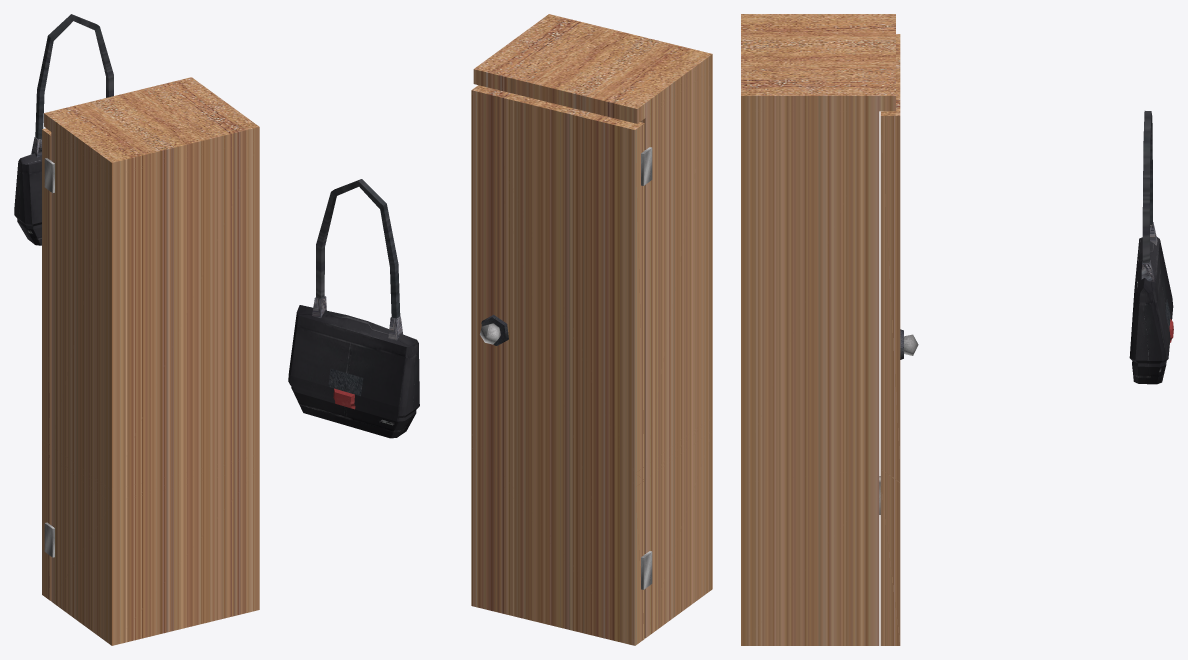
Rendered from bag.FBX.
3 views of the same model, side by side, from view 1: azimuth 30°, elevation 25°; view 2: azimuth 150°, elevation 25°; view 3: azimuth 270°, elevation 25° (orthographic). The views are drawn at different scales.
Parts seen in each view (by area): view 1: Box002, Object001, Box005, Box007; view 2: Object001, Box002, Box005, Box007, Object004; view 3: Box002, Object001, Box005, Box007.
Boxes of the visible parts, left/top/right/bottom form: Box002: left=44, top=77, right=259, bottom=645; Object001: left=42, top=128, right=51, bottom=600; Box005: left=14, top=153, right=41, bottom=245; Box007: left=35, top=14, right=113, bottom=139; Object001: left=471, top=85, right=644, bottom=645; Box002: left=473, top=14, right=712, bottom=638; Box005: left=288, top=305, right=419, bottom=438; Box007: left=316, top=179, right=400, bottom=318; Object004: left=328, top=368, right=363, bottom=396; Box002: left=741, top=14, right=895, bottom=645; Object001: left=880, top=34, right=900, bottom=645; Box005: left=1129, top=237, right=1173, bottom=384; Box007: left=1142, top=111, right=1152, bottom=263.
Bounding box in the file's own units: 54.04 × 124 × 88.75.
Materials: 6 (6 with a texture image).
